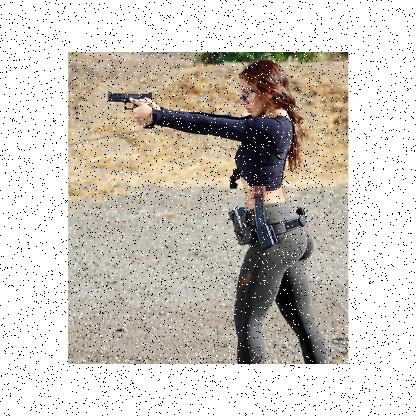gun: (105, 88, 153, 128)
